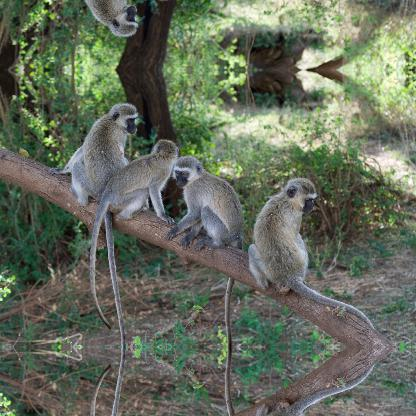Monkey: (246, 175, 374, 328), (87, 138, 177, 326), (164, 154, 244, 346), (246, 363, 374, 415), (163, 346, 245, 415), (87, 365, 178, 415)
